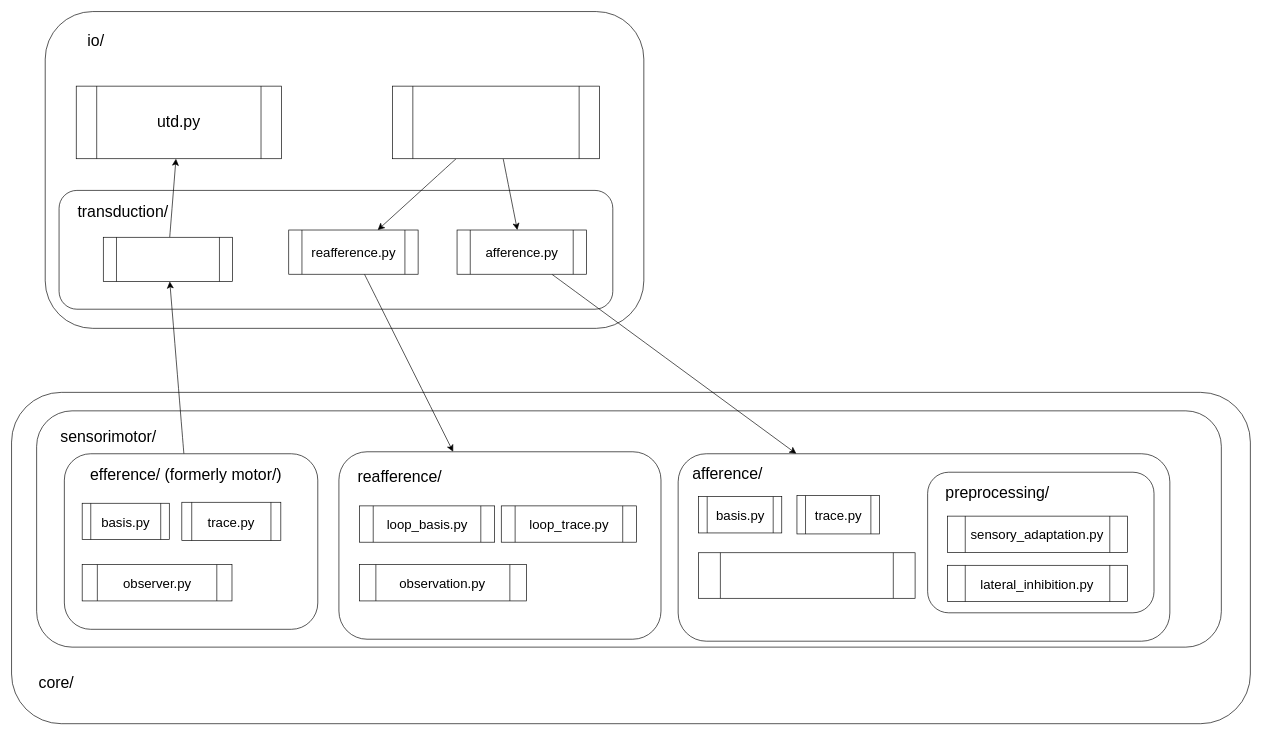
The diagram is 1262 pixels wide and 735 high, and some of its shapes have lost their labels. Here are the shapes that lost their labels. From the top down, the centre of each, then its label:
(x=496, y=122): ute.py
(x=168, y=259): efference.py
(x=806, y=575): sensorimotor_aperture.py
